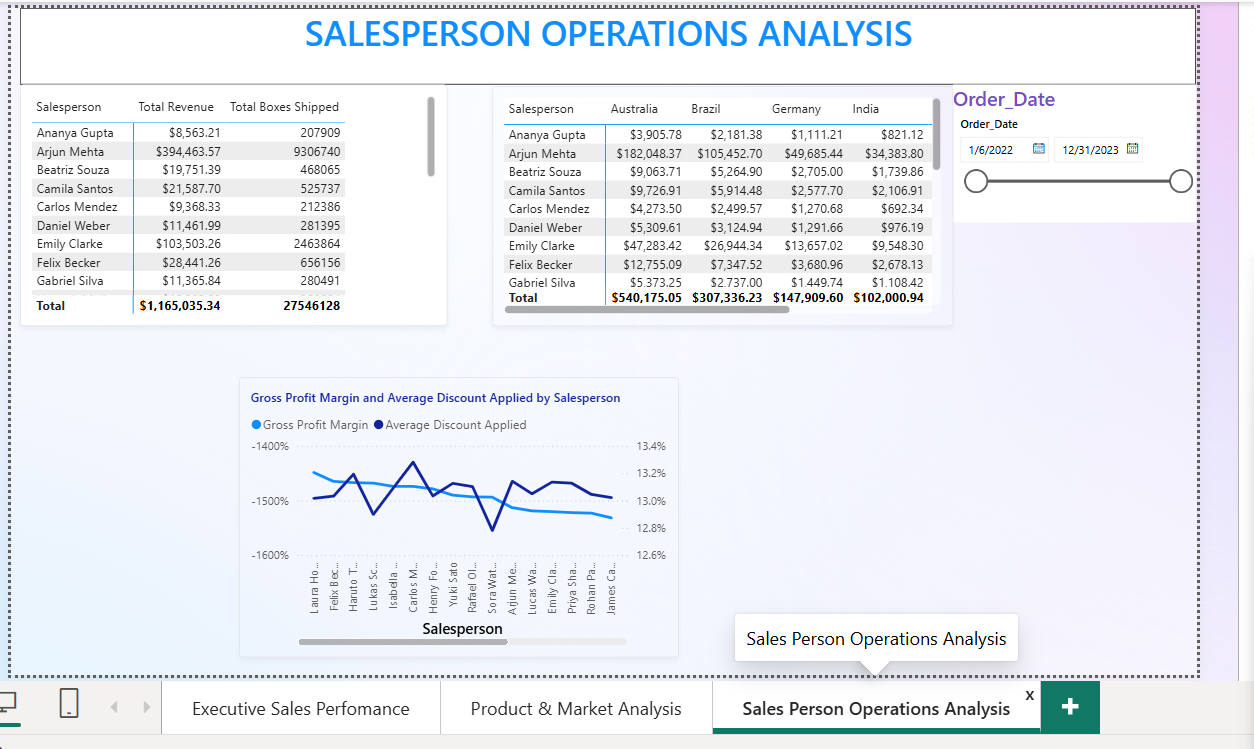

The dashboard page shown, as its layout file describes it:
{"tool":"powerbi","page":{"name":"Sales Person Operations Analysis","canvas":[1280,720],"ordinal":2},"visuals":[{"type":"textbox","title":"SALESPERSON OPERATIONS ANALYSIS","box":[9.7,0,1269.5,82.6],"z":0},{"type":"slicer","title":"Order_Date","fields":{"Values":["Chocolate_Sales.Order_Date"]},"box":[1016.9,82.6,262.3,149],"z":1000},{"type":"pivotTable","fields":{"Rows":["Chocolate_Sales.Salesperson"],"Values":["Chocolate_Sales.Total Revenue","Chocolate_Sales.Total Boxes Shipped"]},"box":[9.7,82.6,461.5,260.7],"z":2000},{"type":"pivotTable","fields":{"Rows":["Chocolate_Sales.Salesperson"],"Columns":["Chocolate_Sales.Country"],"Values":["Chocolate_Sales.Total Revenue"]},"box":[519.8,84.2,497.1,259.1],"z":3000},{"type":"lineChart","fields":{"Category":["Chocolate_Sales.Salesperson"],"Y":["Chocolate_Sales.Gross Profit Margin"],"Y2":["Chocolate_Sales.Average Discount Applied"]},"box":[246.1,398.3,474.4,302.8],"z":4000}]}

Visuals, with their boxes on the page's 1280x720 design canvas (x1, y1, x2, y2). These are canvas units, not pixel positions in the 1254x749 screenshot, which may show the page scaled, cropped or inside an application window:
"SALESPERSON OPERATIONS ANALYSIS" textbox: Rect(10, 0, 1279, 83)
"Order_Date" slicer: Rect(1017, 83, 1279, 232)
pivotTable - Chocolate_Sales.Salesperson x Chocolate_Sales.Total Revenue: Rect(10, 83, 471, 343)
pivotTable - Chocolate_Sales.Salesperson x Chocolate_Sales.Country: Rect(520, 84, 1017, 343)
lineChart - Chocolate_Sales.Salesperson x Chocolate_Sales.Gross Profit Margin: Rect(246, 398, 720, 701)
